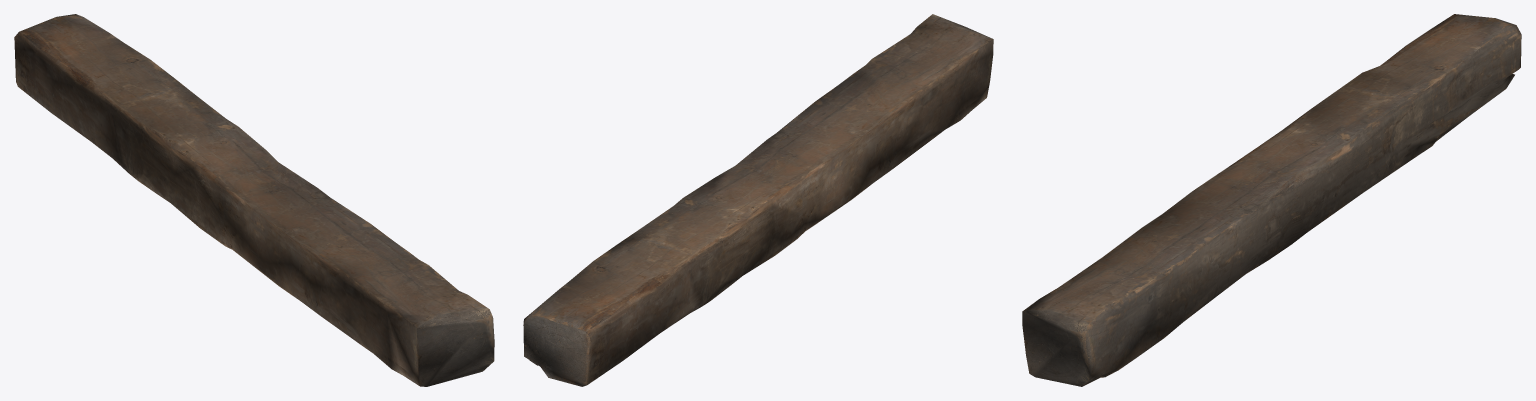
The model's file is Wooden_plank_v2_LOD3.fbx.
The picture shows the model from 3 angles, left to right: view 1: azimuth 30°, elevation 25°; view 2: azimuth 150°, elevation 25°; view 3: azimuth 330°, elevation 25°; orthographic projection. The views are drawn at different scales.
Parts seen in each view (by area): view 1: Wooden_plnaksv2_LOD3; view 2: Wooden_plnaksv2_LOD3; view 3: Wooden_plnaksv2_LOD3.
Part boxes in pixels (x1,y1,x2,y2): Wooden_plnaksv2_LOD3: [14, 14, 494, 386]; Wooden_plnaksv2_LOD3: [523, 14, 993, 386]; Wooden_plnaksv2_LOD3: [1022, 14, 1521, 386].
Size of the model in its own units: 10.67 by 9.5 by 98.9.
